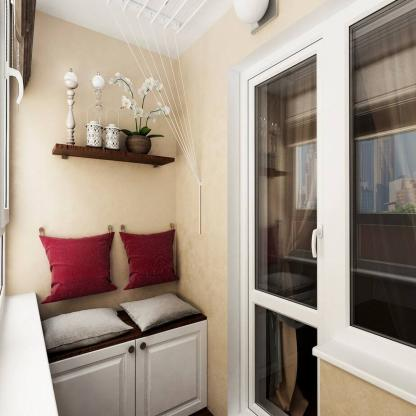Door: (240, 40, 324, 416)
Window: (347, 0, 416, 349)
